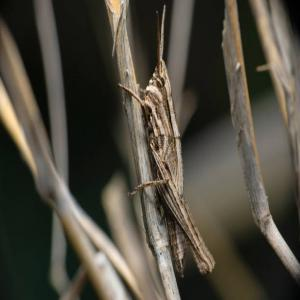locust: (133, 2, 213, 288)
